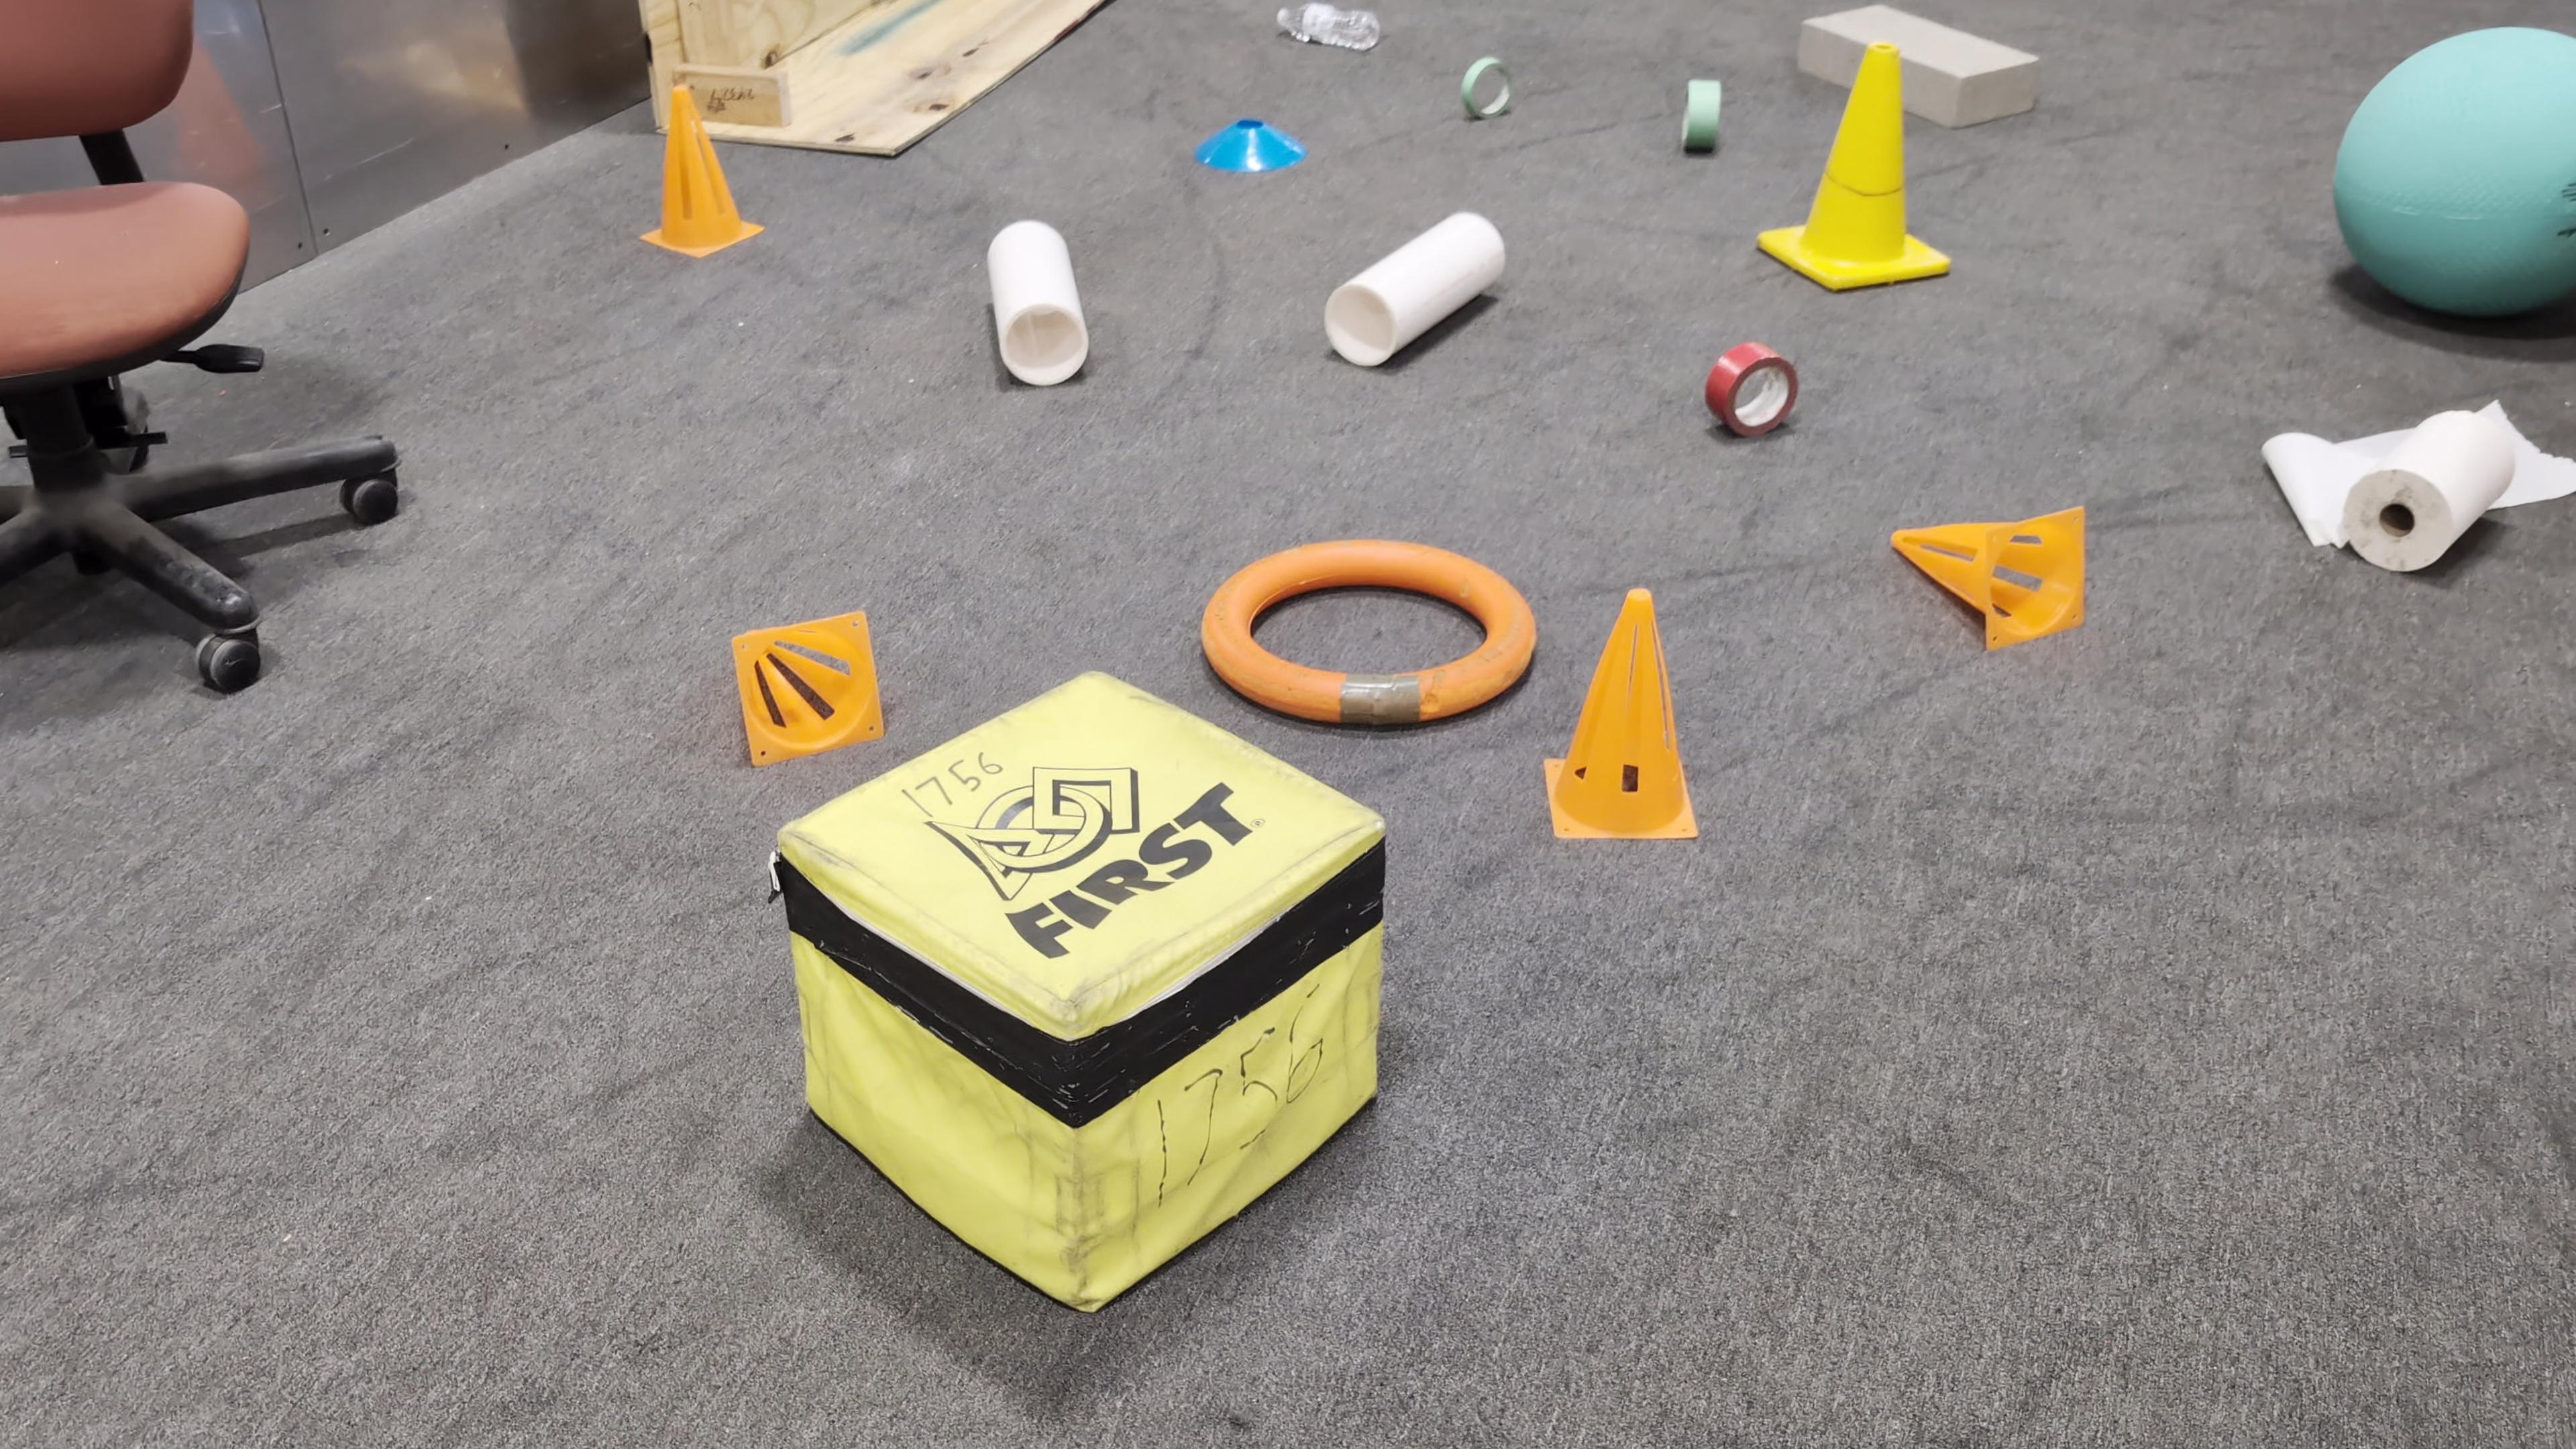coral: (1320, 207, 1509, 364), (989, 219, 1090, 384)
